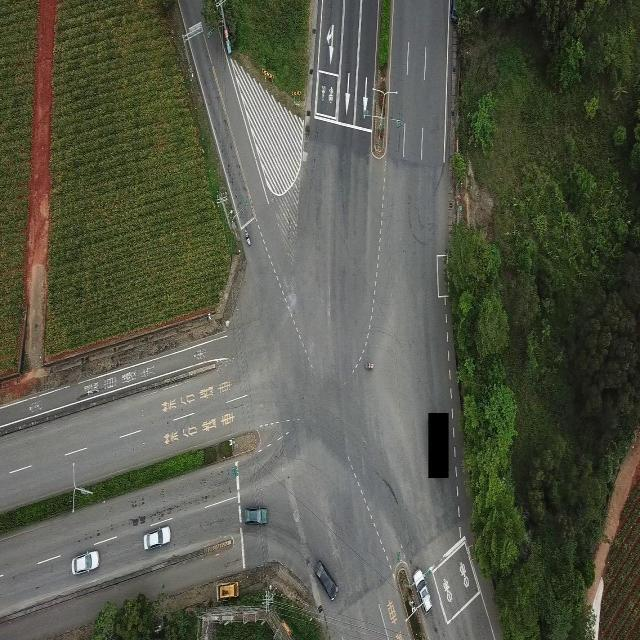bike: (240, 225, 255, 248), (363, 358, 375, 374)
car: (313, 558, 338, 602), (412, 569, 431, 614), (143, 524, 170, 550), (72, 550, 99, 576), (216, 581, 241, 602), (242, 503, 268, 523)
